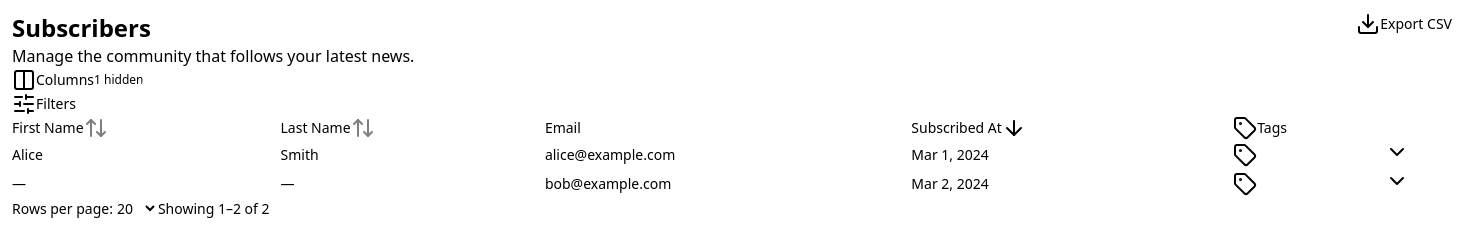
Test: SubscribersTable › expandable row detail › clicking the expand button again collapses the detail panel
Click the button named "expand details" in the row of "Smith" at coordinates (1396, 152), box [1384,140,1408,164]
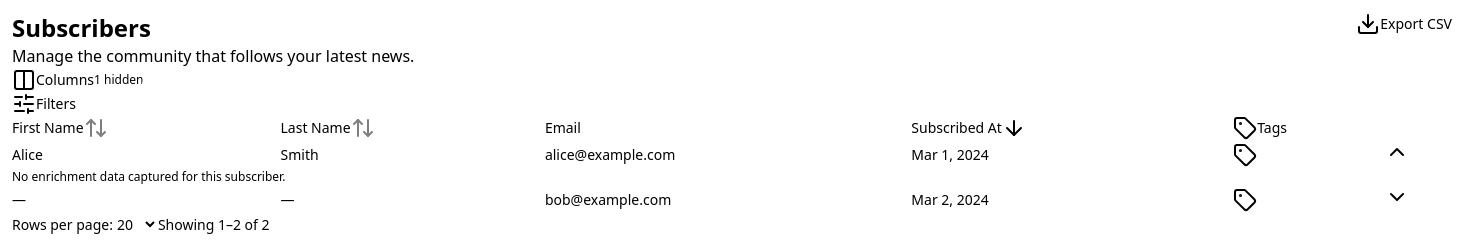
Expected: the text "No enrichment data captured for this subscriber." is shown, [12,168,285,185]
Click the button named "expand details" in the row of "Smith" at coordinates (1396, 152), box [1384,140,1408,164]
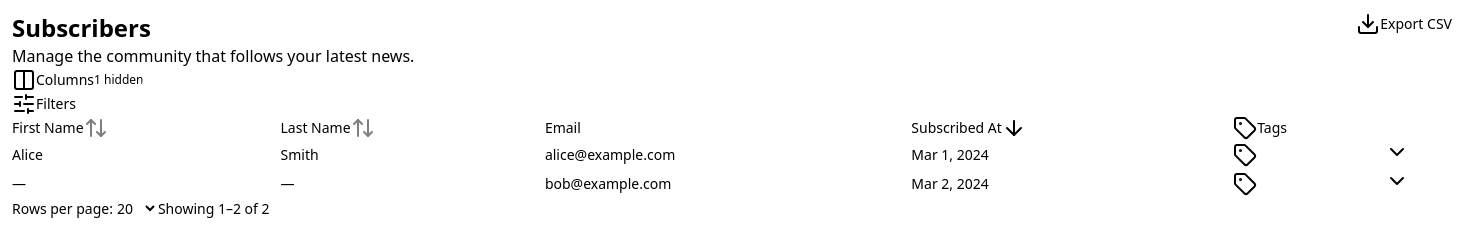
Expected: the text "No enrichment data captured" is gone
